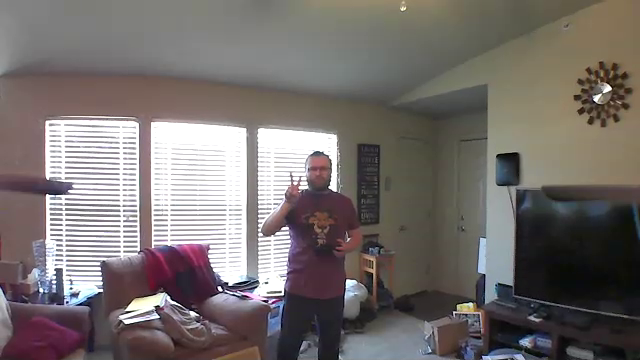peace: (277, 169, 308, 206)
